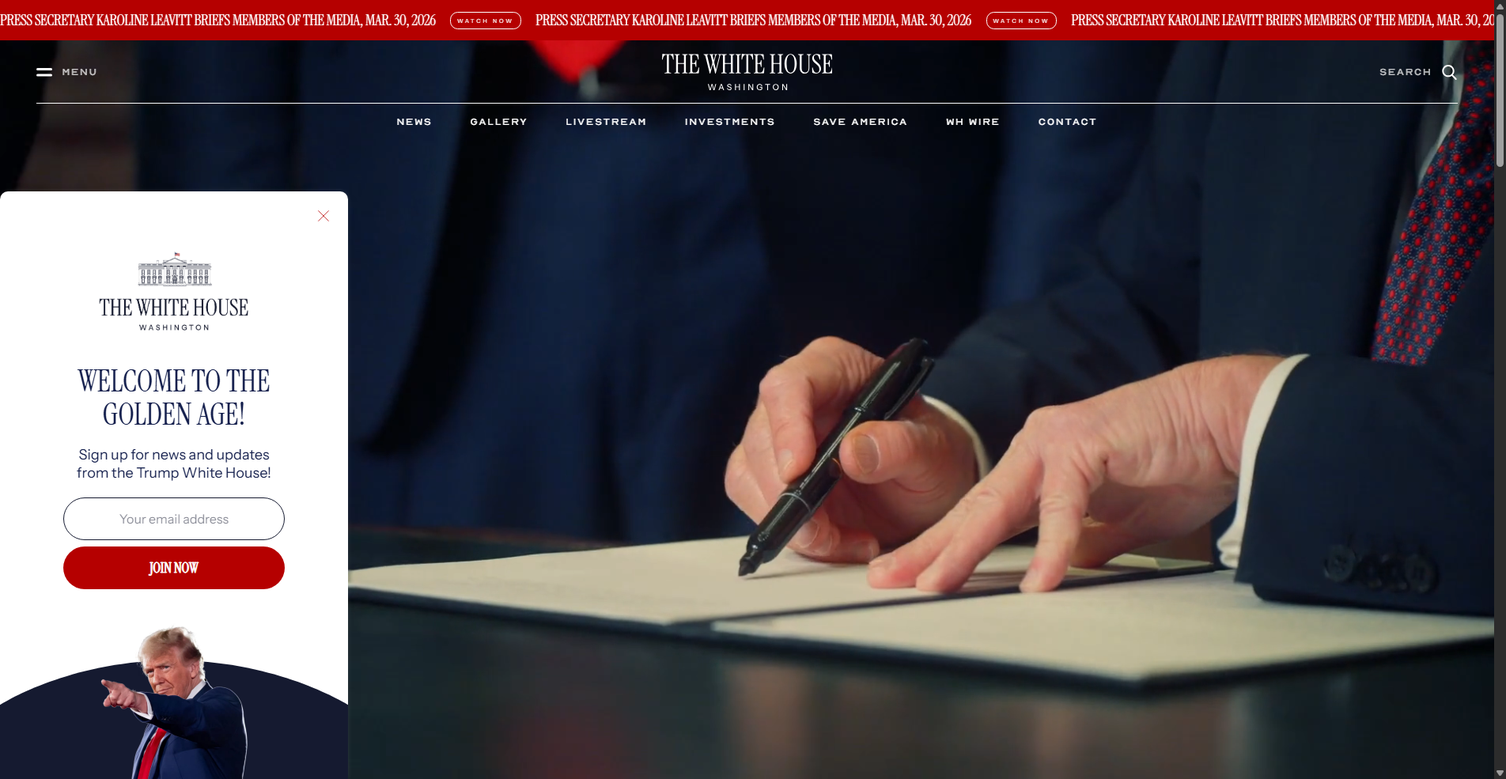button: (1370, 55, 1467, 89), (27, 55, 107, 89), (1432, 55, 1467, 89), (0, 104, 31, 139), (1463, 104, 1494, 139), (37, 64, 53, 80), (1442, 64, 1457, 80)
input: (1432, 61, 1448, 86)
label: (1431, 58, 1432, 59)
link: (0, 0, 1494, 40), (652, 44, 842, 100), (1184, 0, 1390, 39), (963, 0, 1168, 39), (622, 37, 777, 63), (622, 95, 763, 120), (622, 37, 748, 63), (801, 108, 921, 135), (672, 108, 788, 135), (553, 108, 660, 135), (622, 9, 735, 34), (622, 9, 734, 34), (622, 66, 730, 91), (1026, 108, 1110, 135), (458, 108, 540, 135), (933, 108, 1013, 135), (384, 108, 445, 135), (622, 0, 754, 6), (622, 0, 700, 6), (622, 0, 661, 6)
menu_item: (622, 34, 891, 63), (622, 91, 891, 120), (622, 6, 891, 34), (622, 63, 891, 91), (622, 0, 891, 6), (801, 116, 921, 127), (672, 116, 788, 127), (553, 116, 660, 127), (1026, 116, 1110, 127), (458, 116, 540, 127), (933, 116, 1013, 127), (384, 116, 445, 127)
